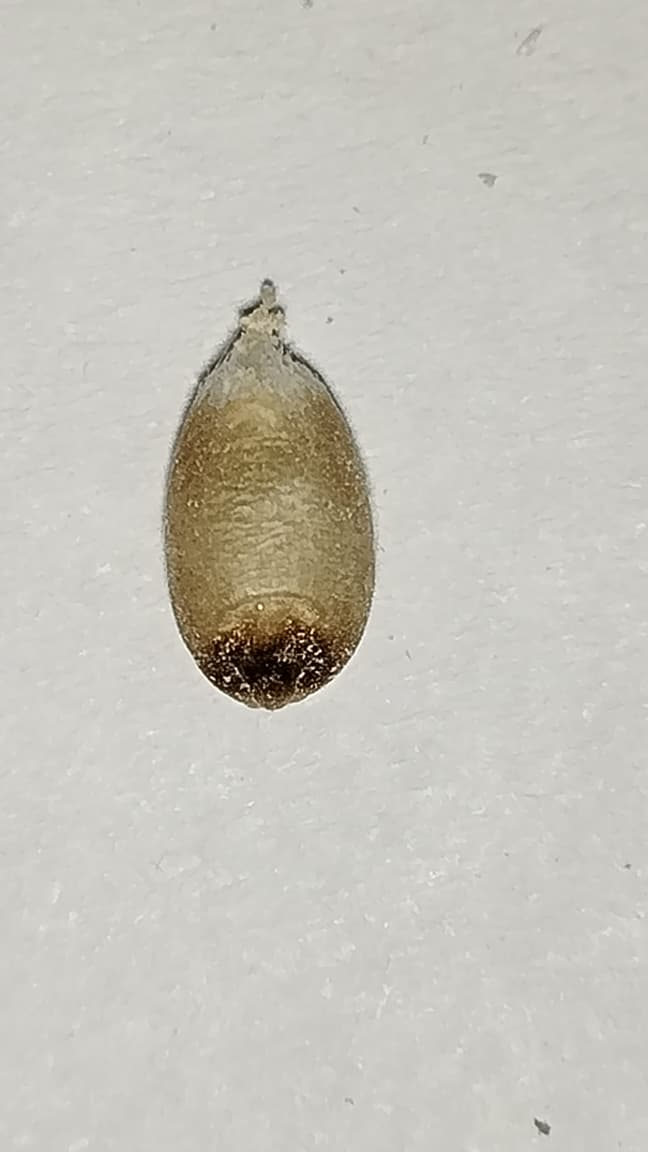damage: (166, 282, 375, 708)
molddamage: (185, 277, 328, 413)
staindamage: (191, 614, 352, 708)
